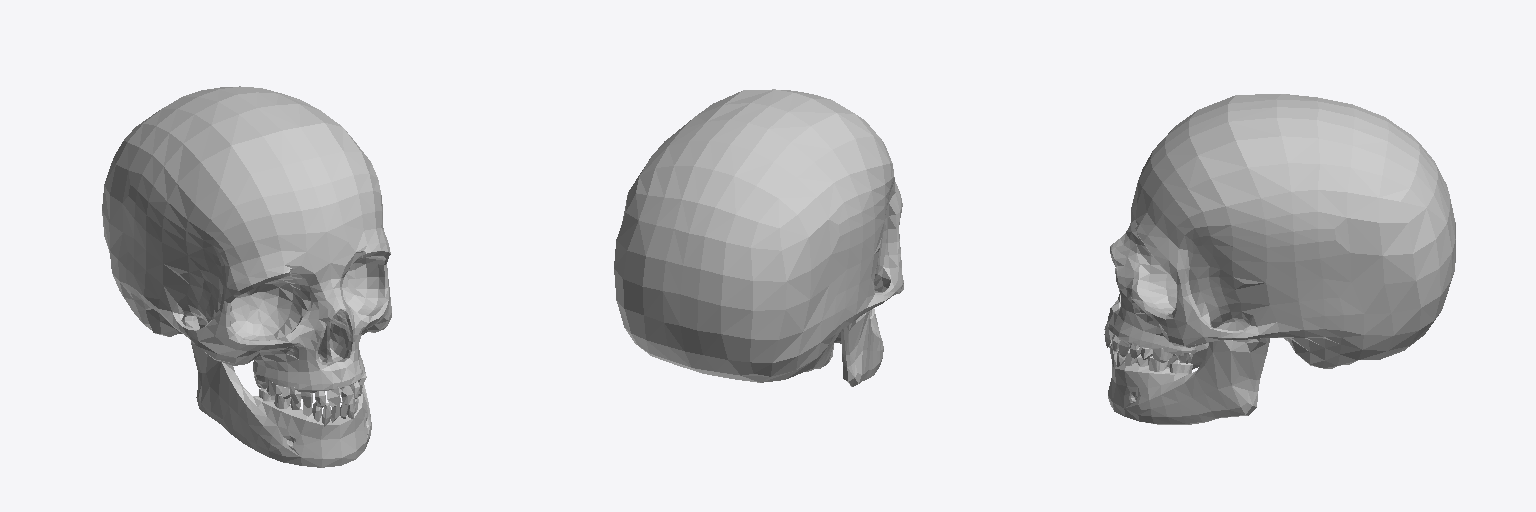
The model's file is Skull.obj.
The picture shows the model from 3 angles: view 1: azimuth 30°, elevation 25°; view 2: azimuth 150°, elevation 25°; view 3: azimuth 270°, elevation 25°; orthographic projection.
Visible parts, largest first — view 1: Skull; view 2: Skull; view 3: Skull.
Part boxes in pixels (x1,y1,x2,y2): Skull: (102,86,391,467); Skull: (614,89,903,386); Skull: (1104,94,1455,424).
Bounding box in the file's own units: 4.21 × 5.84 × 6.24.